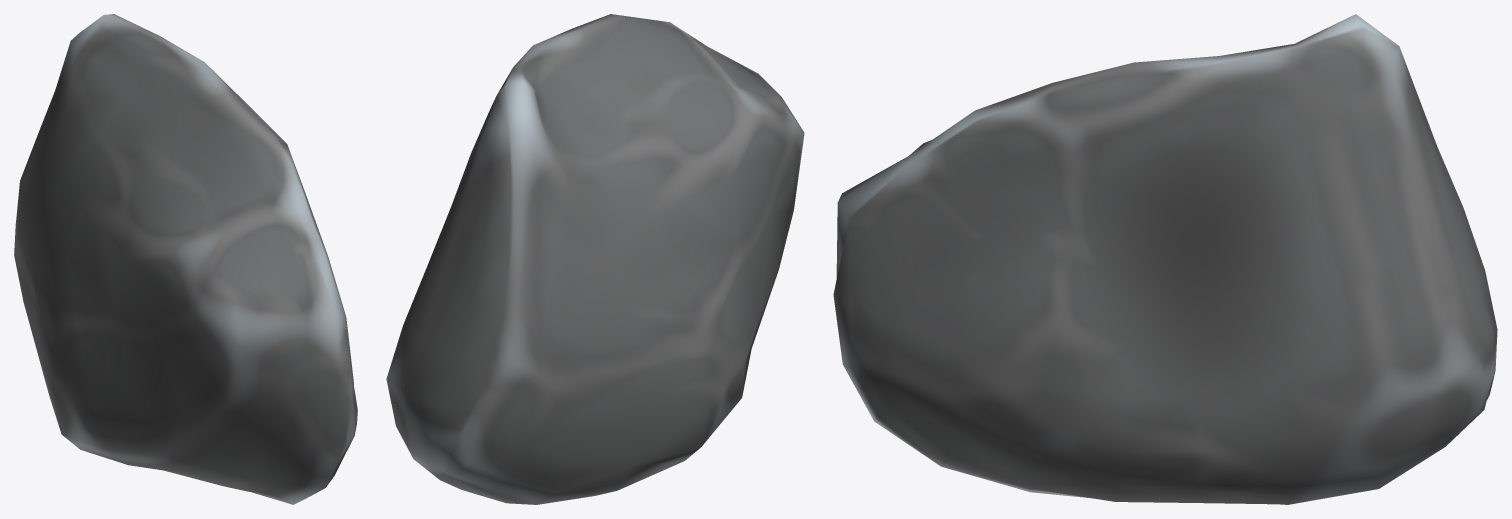
The model's file is rock_2.fbx.
3 renders of one model, left to right at view 1: azimuth 30°, elevation 25°; view 2: azimuth 150°, elevation 25°; view 3: azimuth 270°, elevation 25°, orthographic. The views are drawn at different scales.
Visible parts, largest first — view 1: rock2_low; view 2: rock2_low; view 3: rock2_low.
Part boxes in pixels (x1,y1,x2,y2): rock2_low: [14, 14, 357, 504]; rock2_low: [386, 14, 804, 504]; rock2_low: [833, 14, 1497, 504].
Size of the model in its own units: 14.08 by 24.65 by 31.57.
Materials: 1 (1 with a texture image).
